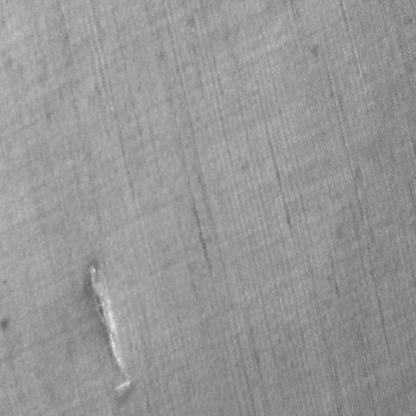hole: (83, 262, 135, 396)
